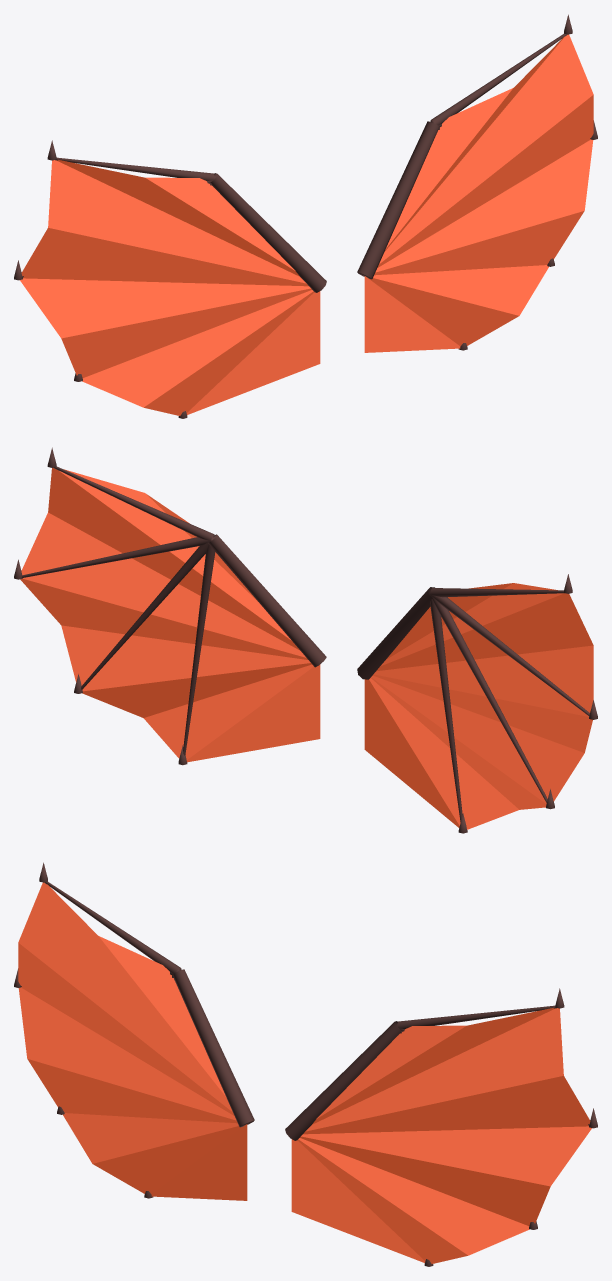
The model's file is wings_demon.glb.
The picture shows the model from 3 angles, top to bottom: view 1: azimuth 30°, elevation 25°; view 2: azimuth 150°, elevation 25°; view 3: azimuth 330°, elevation 25°; orthographic projection.
Visible parts, largest first — view 1: wings_demon; view 2: wings_demon; view 3: wings_demon.
Part boxes in pixels (box(x1,y1,x2,y2)): wings_demon: box(14, 14, 597, 418); wings_demon: box(14, 447, 597, 833); wings_demon: box(14, 862, 597, 1266).
Size of the model in its own units: 3.96 by 1.92 by 0.5027.
